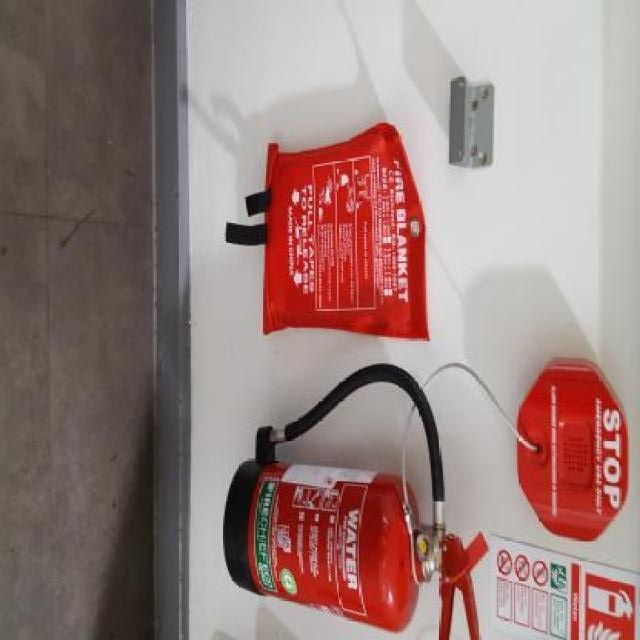fire extinguisher: (223, 362, 492, 638)
